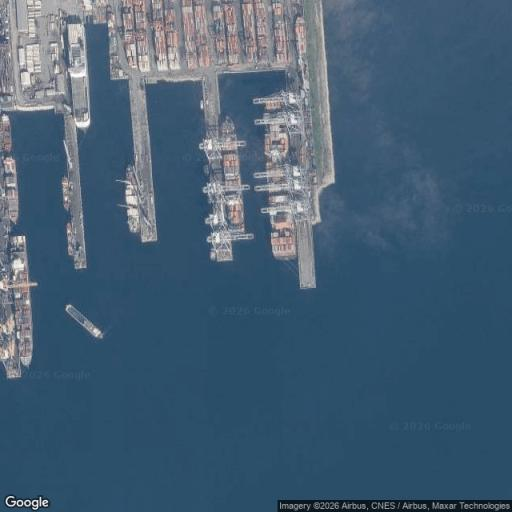ship: (263, 94, 295, 259), (220, 116, 245, 231), (10, 236, 32, 366), (68, 23, 90, 129), (65, 304, 103, 339), (3, 157, 18, 223), (125, 166, 139, 233), (1, 114, 11, 151), (62, 176, 71, 211)
